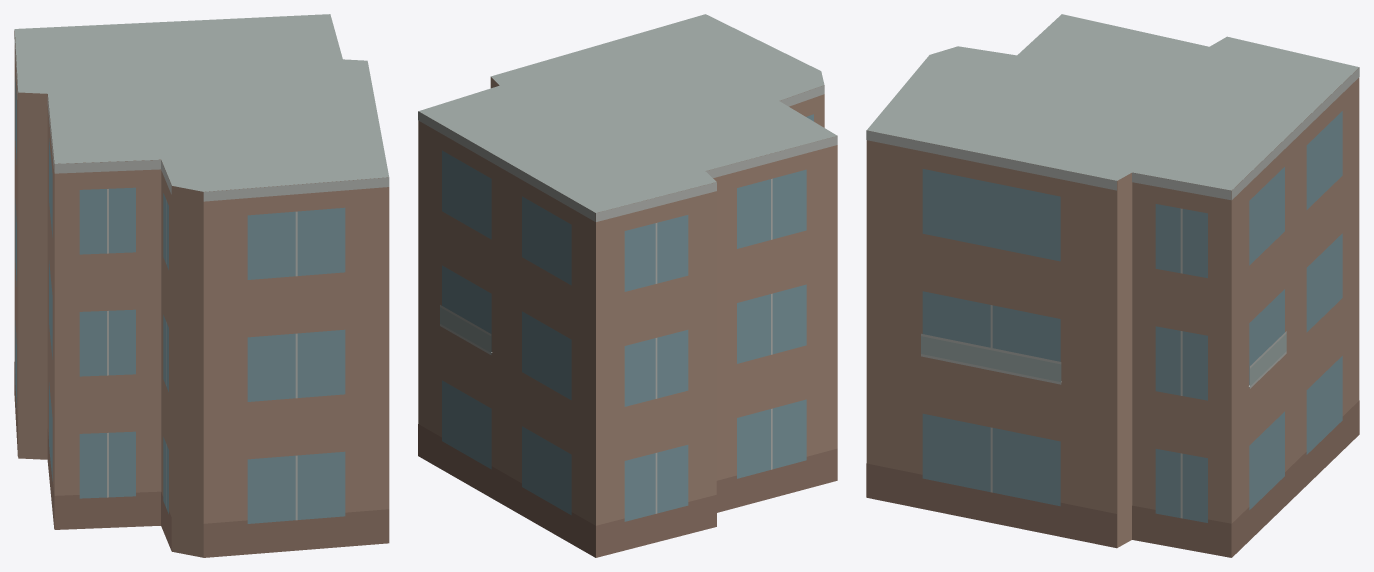
File: survey-upis-32779538.glb
The picture shows the model from 3 angles, left to right: view 1: azimuth 30°, elevation 25°; view 2: azimuth 150°, elevation 25°; view 3: azimuth 270°, elevation 25°; orthographic projection. The views are drawn at different scales.
Visible parts, largest first — view 1: survey-upis-32779538.tmp; view 2: survey-upis-32779538.tmp; view 3: survey-upis-32779538.tmp.
Boxes of the visible parts, x1,y1,x2,y2 form: survey-upis-32779538.tmp: [14, 14, 389, 557]; survey-upis-32779538.tmp: [418, 14, 837, 557]; survey-upis-32779538.tmp: [866, 14, 1359, 557].
Bounding box in the file's own units: 9.44 × 9.15 × 11.14.
